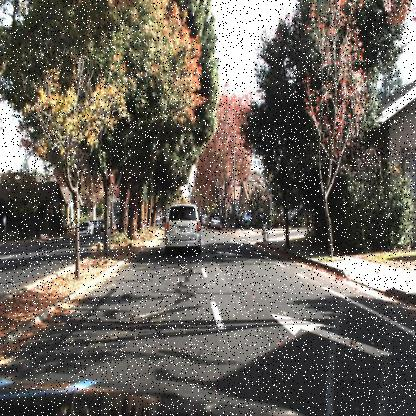car: (158, 199, 208, 258), (76, 219, 94, 238), (78, 219, 93, 238)
